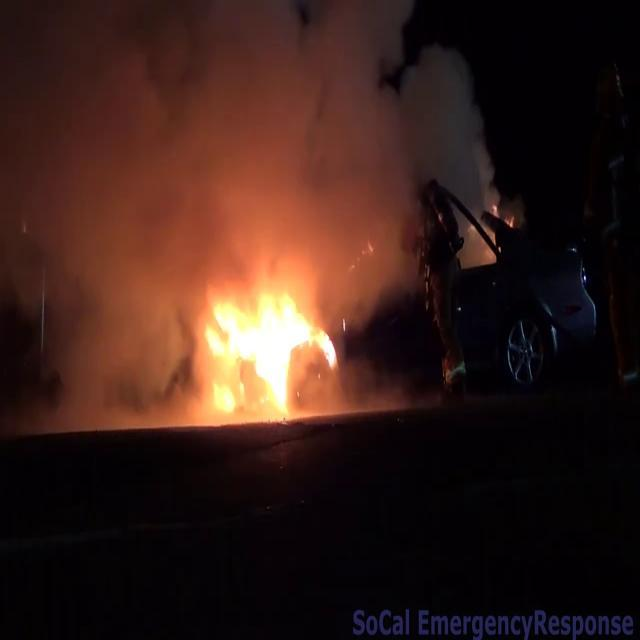Fire: (196, 274, 336, 418)
Smoke: (0, 1, 494, 305)
